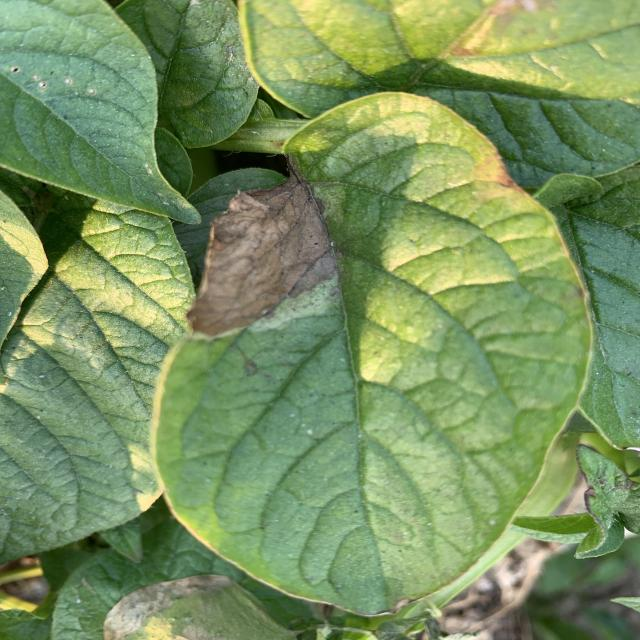lateblight: (188, 175, 330, 336)
